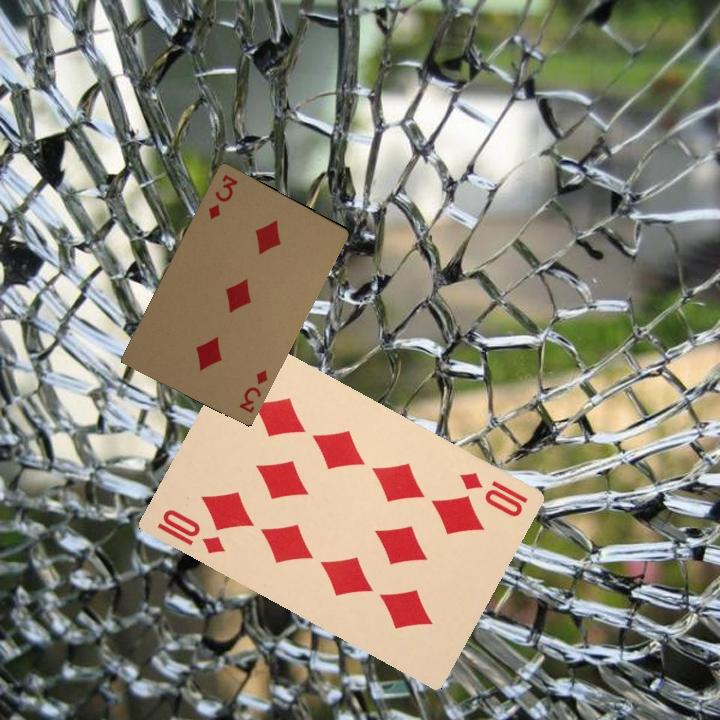10d: (151, 505, 229, 557), (455, 467, 530, 520)
3d: (204, 170, 241, 222), (235, 365, 270, 416)
